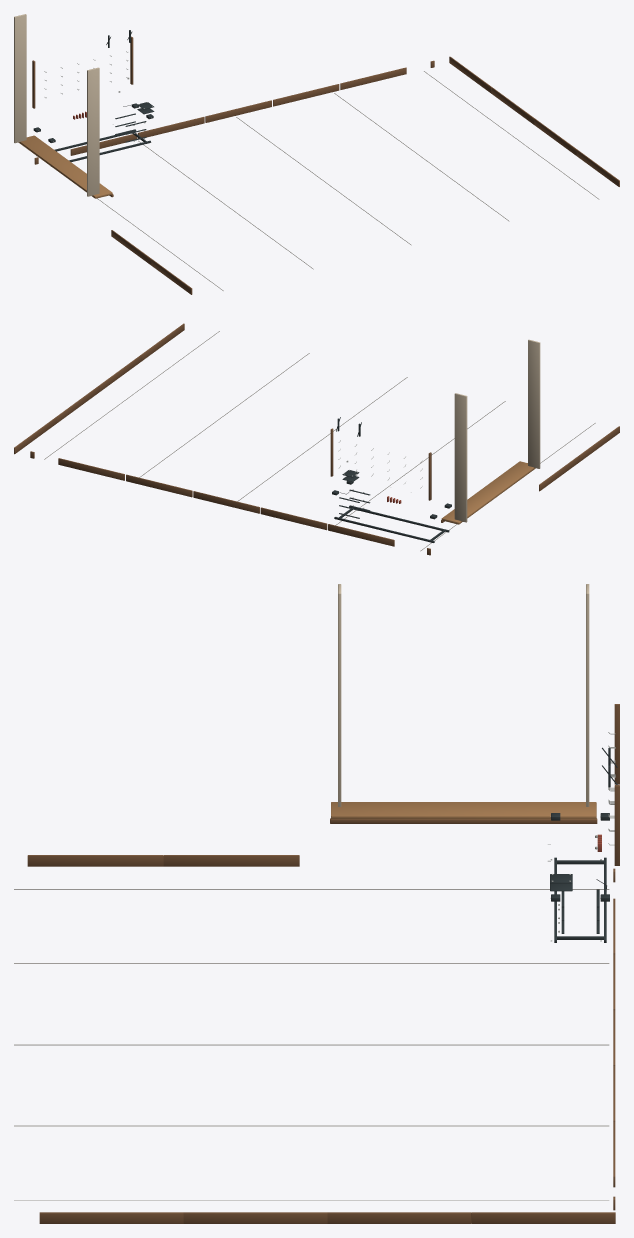
Rendered from detail.glb.
The picture shows the model from 3 angles, top to bottom: view 1: azimuth 30°, elevation 25°; view 2: azimuth 150°, elevation 25°; view 3: azimuth 270°, elevation 25°; orthographic projection. The views are drawn at different scales.
Visible parts, largest first — view 1: sill front lip, window return, sill oak top, floor expansion joint, bench welded corner; view 2: sill front lip, window return, sill oak top, bench welded corner, floor expansion joint; view 3: sill front lip, sill oak top, floor expansion joint, bench welded corner, window return.
Boxes of the visible parts, box(x1,y1,x2,y2) form: sill front lip: box(32, 36, 619, 294); window return: box(14, 14, 99, 196); sill oak top: box(18, 135, 112, 198); floor expansion joint: box(97, 71, 599, 290); bench welded corner: box(33, 30, 154, 162); sill front lip: box(14, 323, 619, 555); window return: box(454, 339, 540, 522); sill oak top: box(441, 461, 535, 524); bench welded corner: box(332, 417, 451, 542); floor expansion joint: box(44, 331, 595, 551); sill front lip: box(27, 704, 619, 1223); sill oak top: box(331, 802, 596, 819); floor expansion joint: box(14, 889, 609, 1200); bench welded corner: box(550, 747, 617, 942); window return: box(338, 584, 589, 806).
Size of the model in its own units: 10.88 by 3.75 by 7.57.
